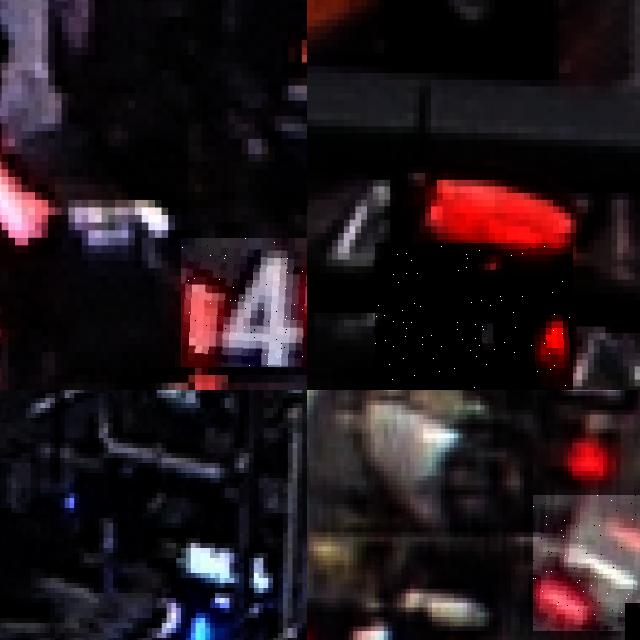R1: (375, 242, 573, 390), (532, 494, 640, 631), (307, 598, 484, 640)
R4: (181, 237, 307, 367)
